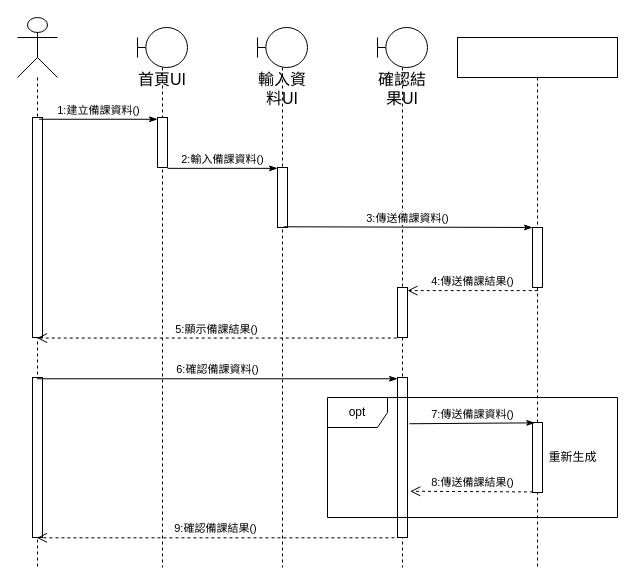
Image size: 635x585. Some labels were removed from this diagram. Here are the shapes that lost their labels. From the top down, the box of each, then its label:
(16, 16, 58, 568): 老師
(456, 36, 618, 568): Application Core
